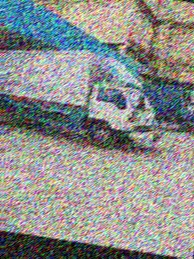truck: (0, 37, 172, 158), (129, 79, 194, 137)
